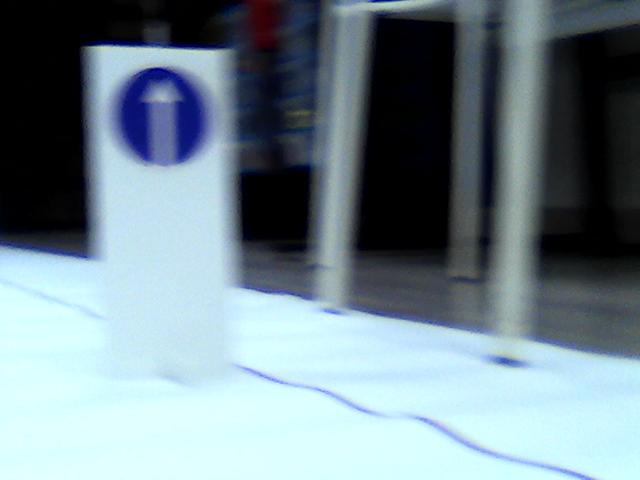forw: (115, 65, 211, 172)
